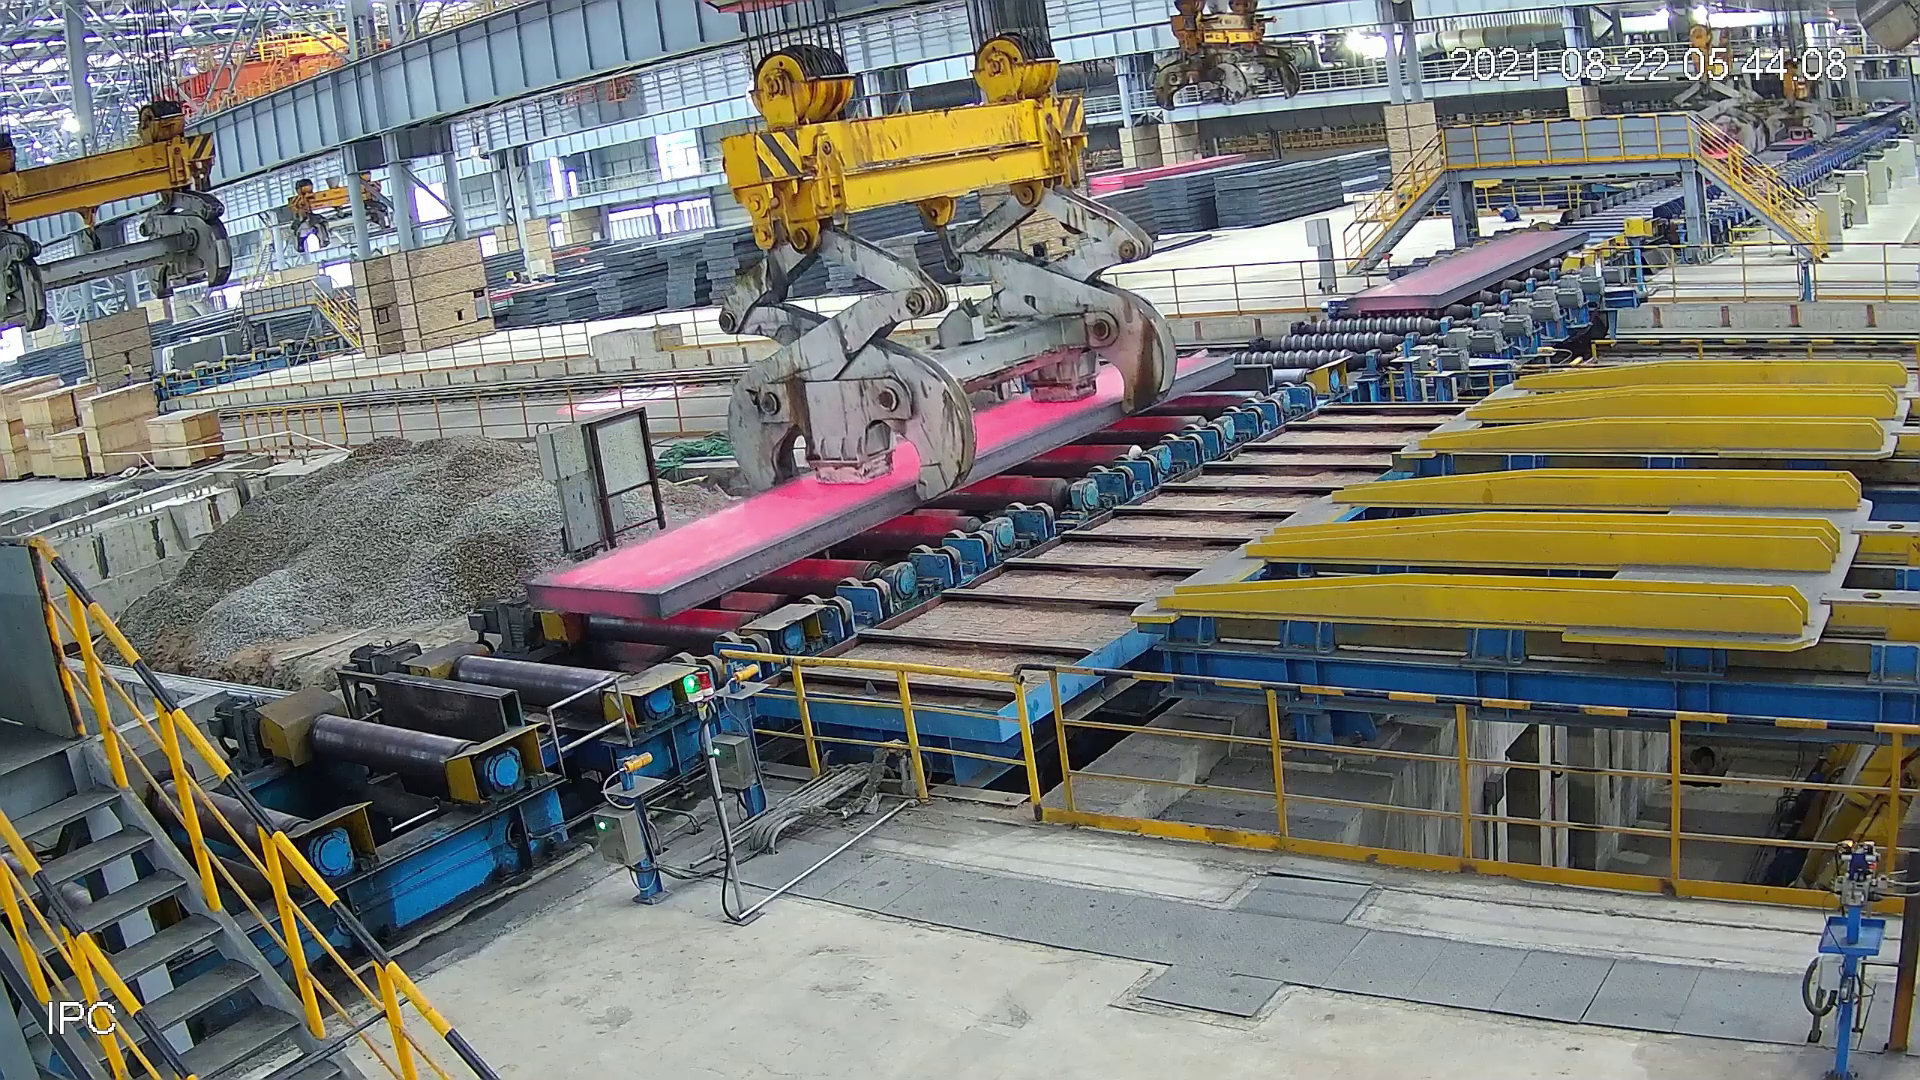crane: (1137, 1, 1327, 112)
craneandslab: (509, 24, 1241, 636)
slab: (1349, 223, 1597, 314)
